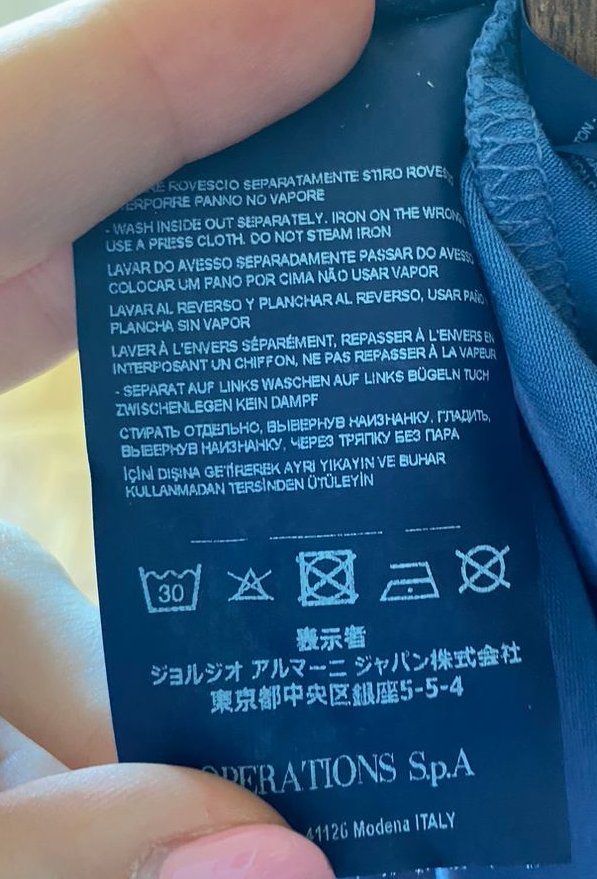do_not_bleach: (220, 559, 284, 612)
do_not_dry_clean: (453, 539, 517, 597)
do_not_tumble_drying: (295, 544, 362, 610)
ironing_at_low_temp: (376, 555, 444, 608)
wash_at_or_below_30: (135, 557, 210, 620)
